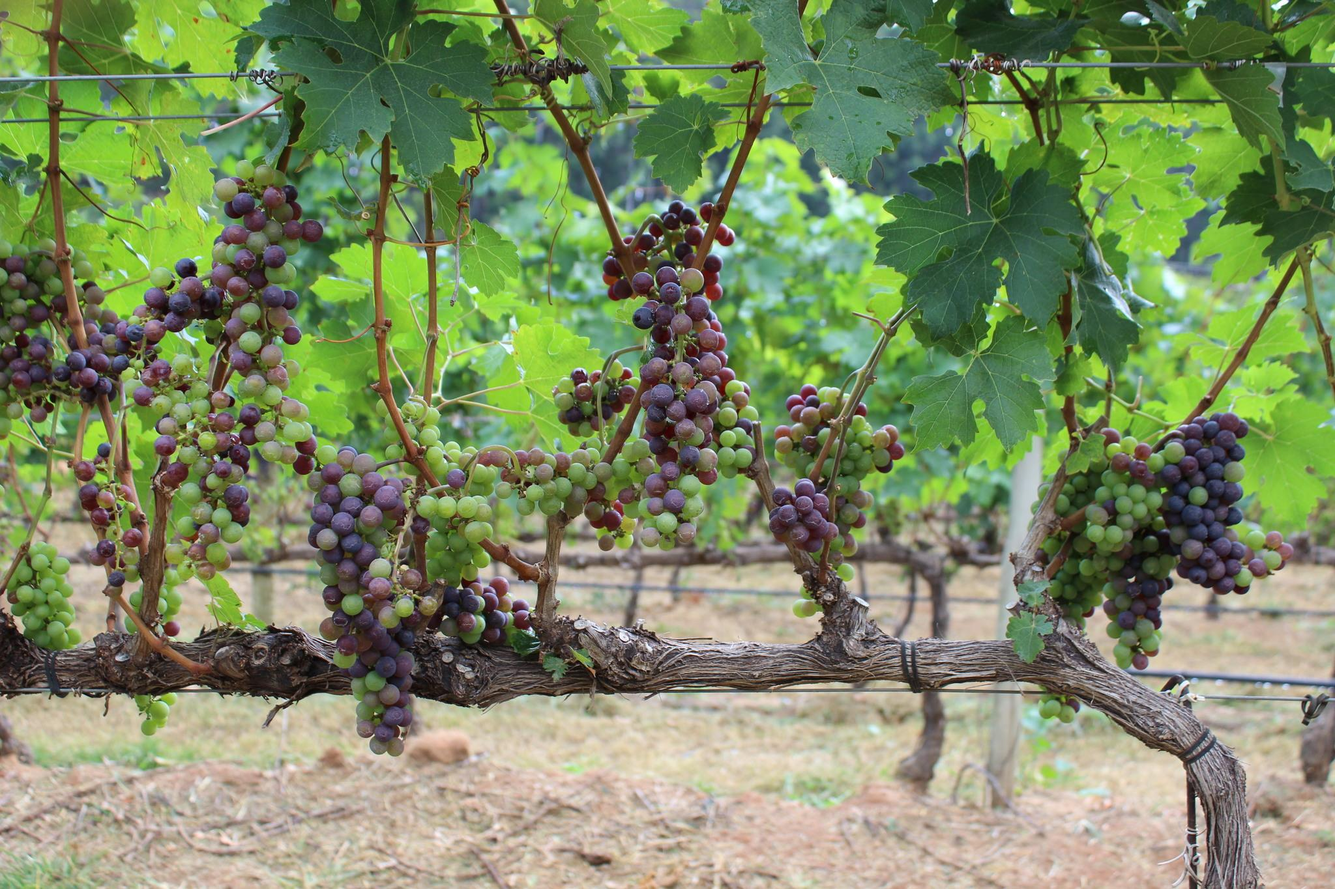Grape Unripe: (0, 542, 90, 652)
